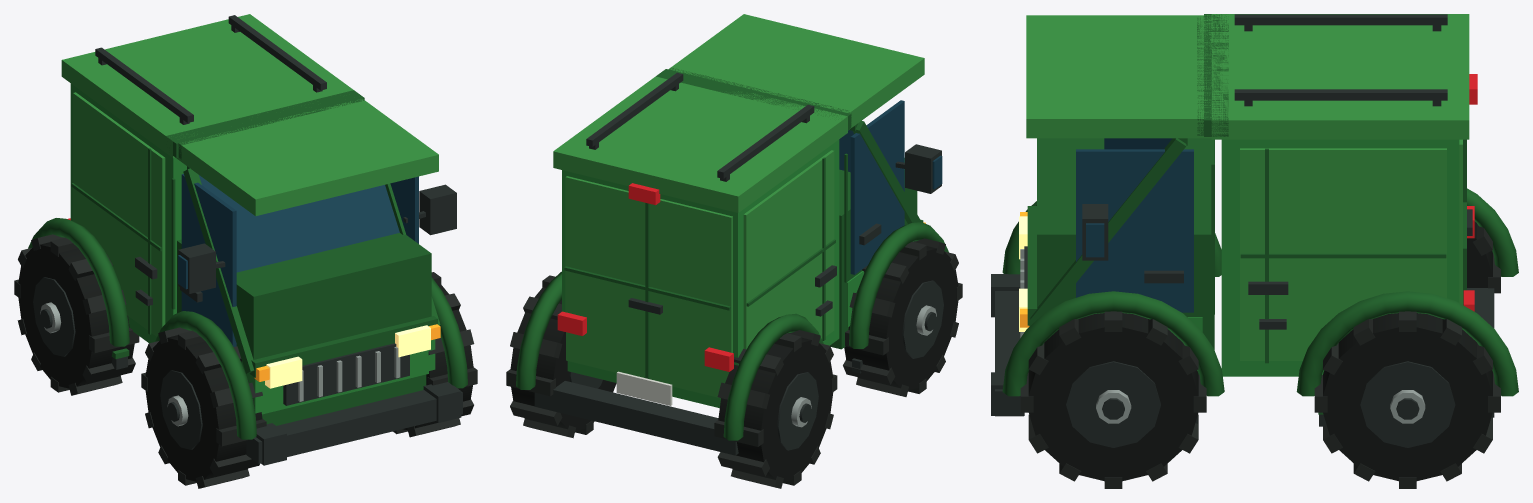
The model's file is asset.glb.
3 views of the same model, side by side, from view 1: azimuth 30°, elevation 25°; view 2: azimuth 150°, elevation 25°; view 3: azimuth 270°, elevation 25° (orthographic). The views are drawn at different scales.
Visible parts, largest first — view 1: Cab_Lower_Body, Cargo_Roof, Cab_Roof, Left_Cargo_Door_Panel, Front_Windshield, Left_Front_Wheel_Tire, Left_Rear_Wheel_Tire, Front_Bumper, Left_Cab_Side_Window, Front_Grille_Recess, Cargo_Box, Left_Rear_Wheel_Fender_Arch (+25 smaller); view 2: Rear_Cargo_Door_Panel, Cargo_Roof, Cab_Roof, Left_Cargo_Door_Panel, Left_Rear_Wheel_Tire, Left_Front_Wheel_Tire, Left_Cab_Side_Window, Rear_Bumper, Cargo_Box, Left_Rear_Wheel_Fender_Arch, Left_Front_Wheel_Fender_Arch, Right_Rear_Wheel_Tire (+25 smaller); view 3: Right_Cargo_Door_Panel, Cargo_Roof, Cab_Roof, Right_Front_Wheel_Tire, Right_Rear_Wheel_Tire, Right_Cab_Side_Window, Cab_Lower_Body, Cargo_Box, Right_Front_Wheel_Fender_Arch, Right_Rear_Wheel_Fender_Arch, Right_Rear_Wheel_Rim, Right_Front_Wheel_Rim (+23 smaller).
Boxes of the visible parts, x1,y1,x2,y2 form: Cab_Lower_Body: (177,233,431,425); Cargo_Roof: (61,14,353,157); Cab_Roof: (176,98,438,216); Left_Cargo_Door_Panel: (73,92,165,336); Front_Windshield: (199,175,399,272); Left_Front_Wheel_Tire: (145,335,262,481); Left_Rear_Wheel_Tire: (18,242,134,388); Front_Bumper: (246,390,462,463); Left_Cab_Side_Window: (181,174,236,346); Front_Grille_Recess: (283,343,409,405); Cargo_Box: (70,83,186,343); Left_Rear_Wheel_Fender_Arch: (28,218,129,346); Rear_Cargo_Door_Panel: (565,176,732,398); Cargo_Roof: (553,76,847,212); Cab_Roof: (669,14,924,130); Left_Cargo_Door_Panel: (743,150,834,349); Left_Rear_Wheel_Tire: (718,337,833,481); Left_Front_Wheel_Tire: (844,246,958,390); Left_Cab_Side_Window: (850,100,904,274); Rear_Bumper: (534,381,738,455); Cargo_Box: (562,139,839,407); Left_Rear_Wheel_Fender_Arch: (723,313,823,440); Left_Front_Wheel_Fender_Arch: (849,222,948,348); Right_Rear_Wheel_Tire: (510,287,616,431); Right_Cargo_Door_Panel: (1240,148,1446,360); Cargo_Roof: (1211,14,1469,139); Cab_Roof: (1026,15,1212,138); Right_Front_Wheel_Tire: (1028,313,1198,481); Right_Rear_Wheel_Tire: (1323,313,1492,481); Right_Cab_Side_Window: (1076,149,1193,312); Cab_Lower_Body: (1037,138,1214,374); Cargo_Box: (1221,139,1459,376); Right_Front_Wheel_Fender_Arch: (1002,291,1224,396); Right_Rear_Wheel_Fender_Arch: (1296,291,1518,396); Right_Rear_Wheel_Rim: (1360,361,1455,447); Right_Front_Wheel_Rim: (1066,361,1160,447).
Size of the model in its own units: 2.39 by 2.62 by 3.45.
